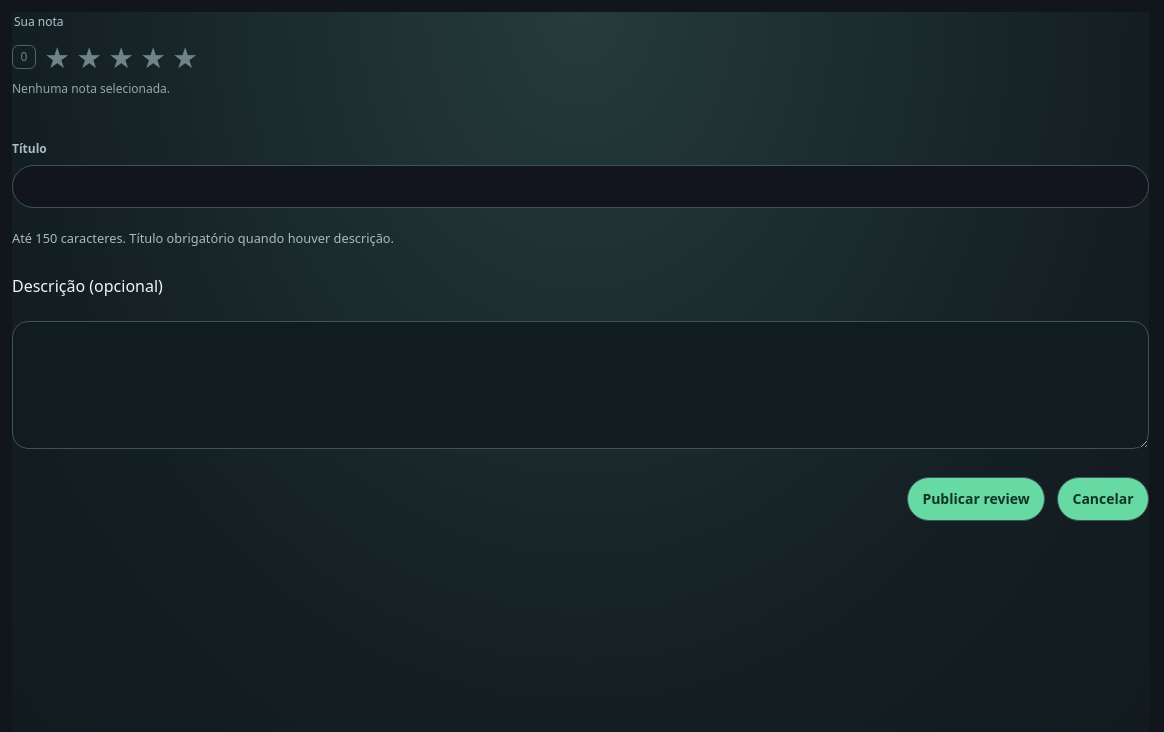
Test: falha preserva escolha e descrição
Click the radio button named "5 estrelas": x=185, y=57 [171,39,199,74]
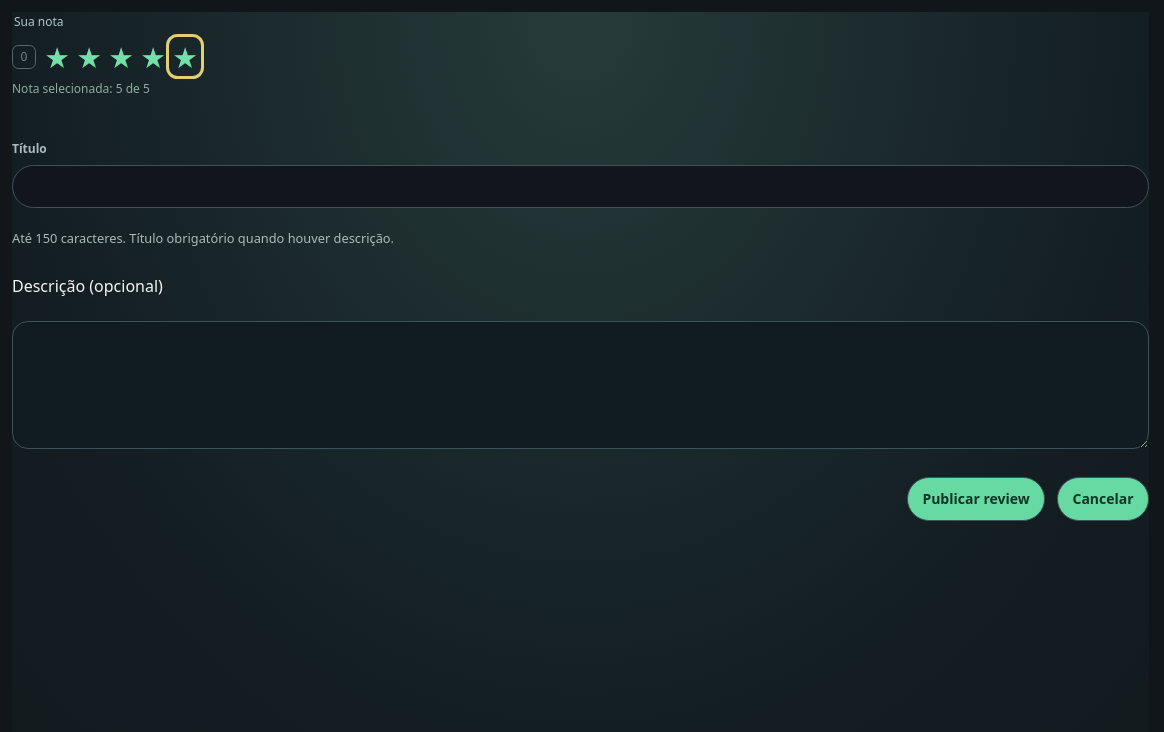
In the text box labelled "Descrição (opcional)": x=580, y=385 [12,321,1149,449], type "Rascunho"
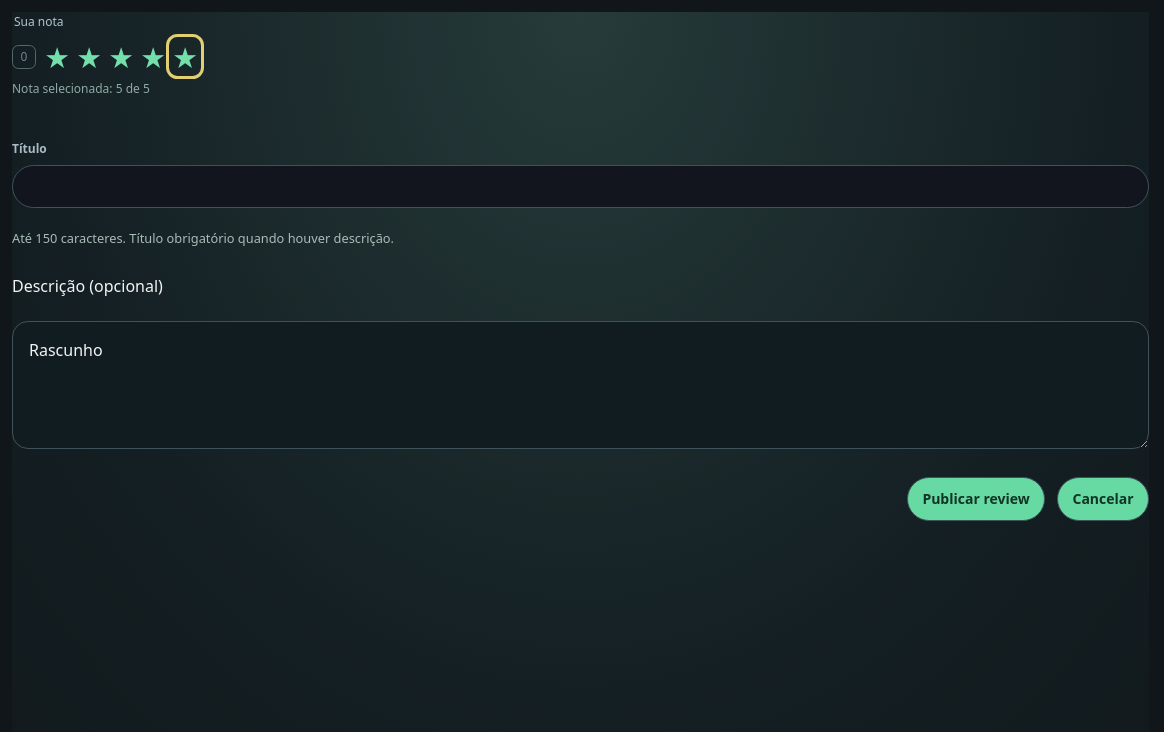
In the field labelled "Título": x=580, y=186 [12,165,1149,208], type "Título do rascunho"
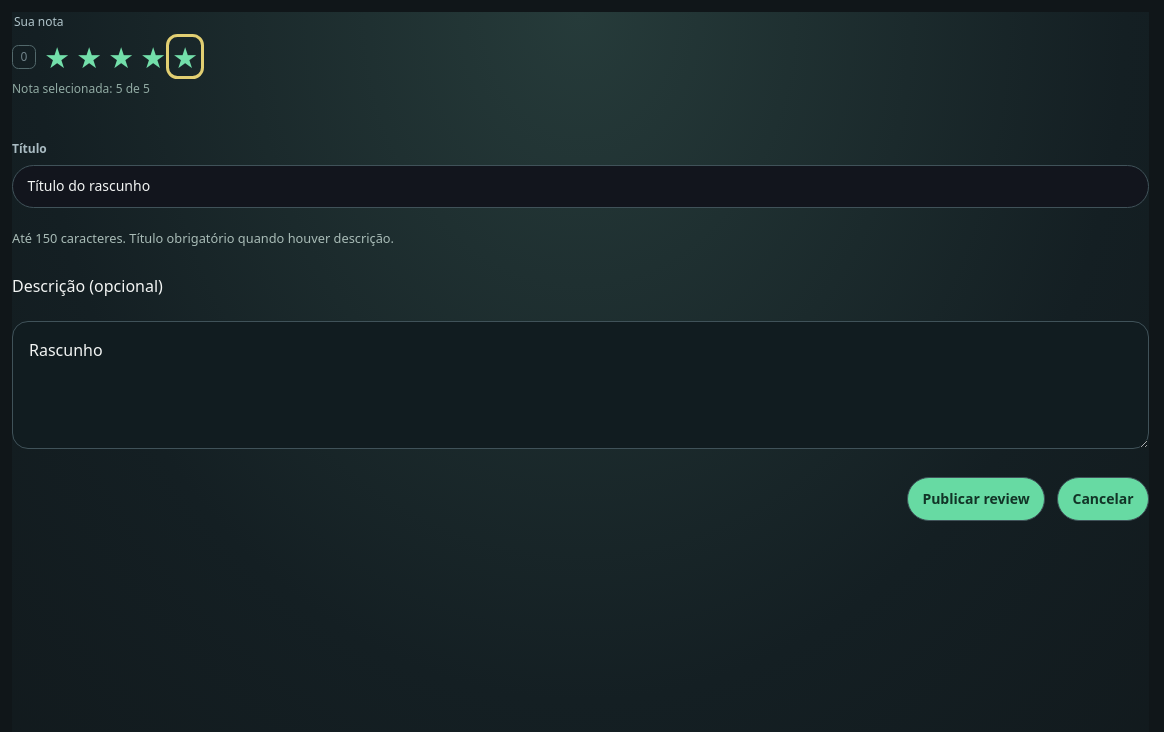
Submit the form
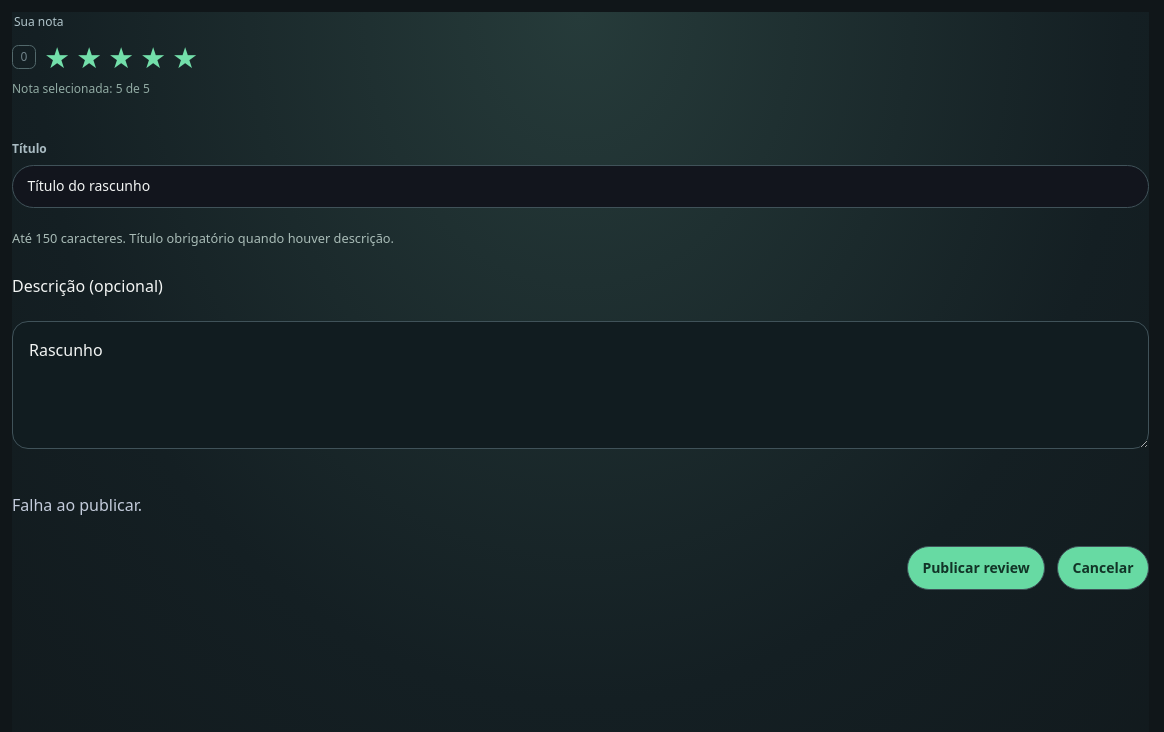
expect the radio button named "5 estrelas" is checked: met, box [171,39,199,74]
expect the message reads "Falha ao publicar.": met, box [12,494,142,516]
